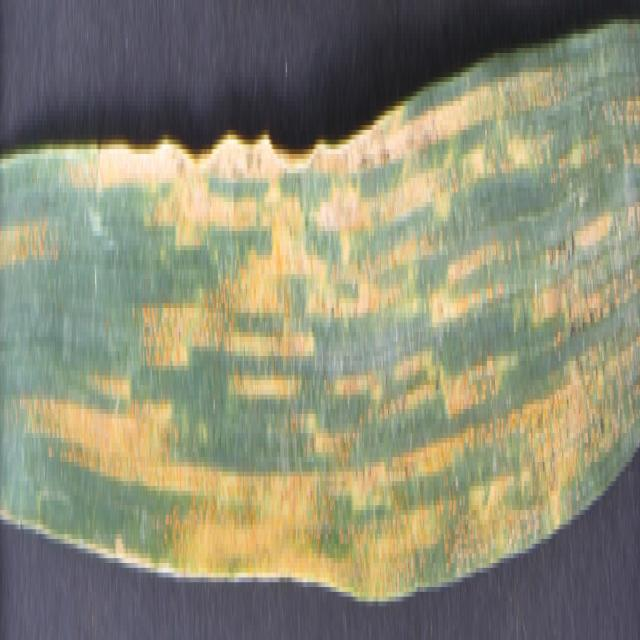leaf rust: (1, 43, 640, 587)
